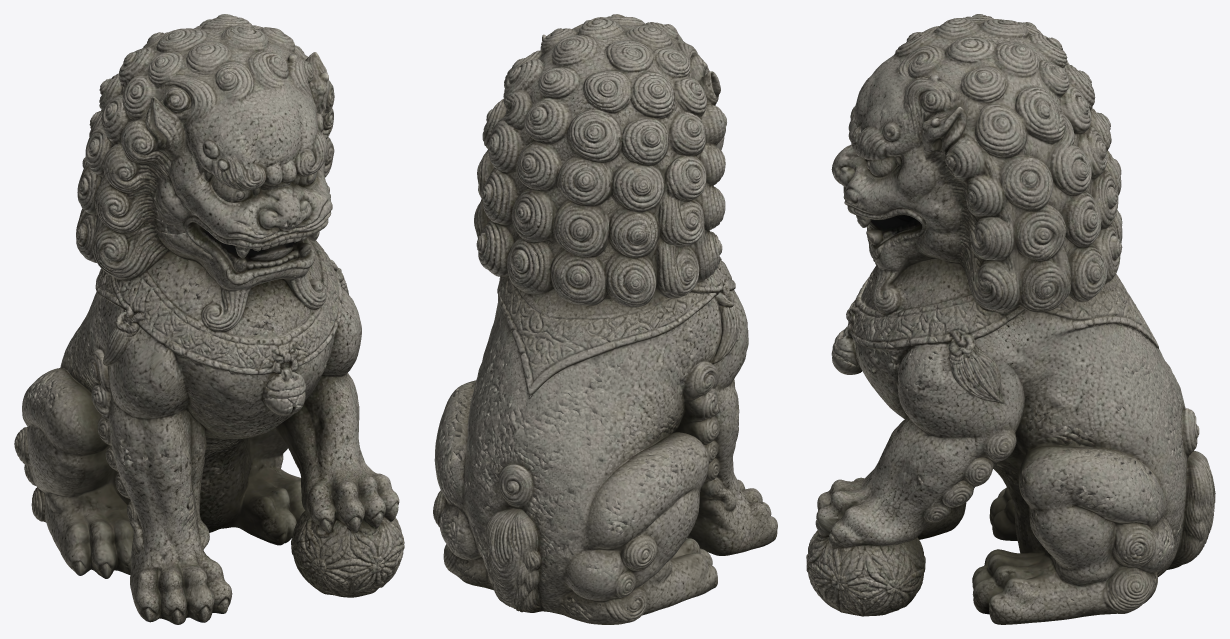
Rendered from stone-lion.glb.
3 renders of one model, left to right at view 1: azimuth 30°, elevation 25°; view 2: azimuth 150°, elevation 25°; view 3: azimuth 270°, elevation 25°, orthographic. The views are drawn at different scales.
Parts seen in each view (by area): view 1: tripo_node_a7d2b2bc-c153-46a8-b4b5-e4c8ccd3e5df; view 2: tripo_node_a7d2b2bc-c153-46a8-b4b5-e4c8ccd3e5df; view 3: tripo_node_a7d2b2bc-c153-46a8-b4b5-e4c8ccd3e5df.
Boxes of the visible parts, x1,y1,x2,y2 form: tripo_node_a7d2b2bc-c153-46a8-b4b5-e4c8ccd3e5df: (14, 14, 404, 624); tripo_node_a7d2b2bc-c153-46a8-b4b5-e4c8ccd3e5df: (433, 14, 777, 624); tripo_node_a7d2b2bc-c153-46a8-b4b5-e4c8ccd3e5df: (806, 14, 1215, 624).
Size of the model in its own units: 0.5027 by 0.9803 by 0.6746.
1 material, 1 textured.
